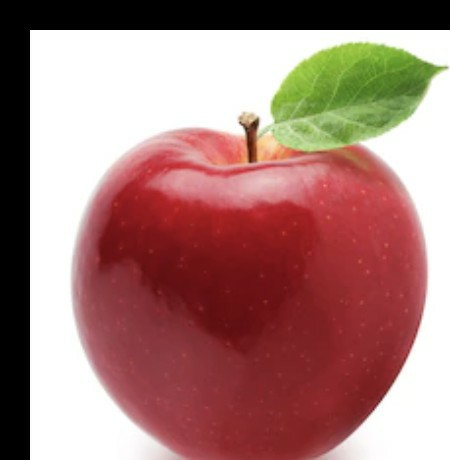fresh_apple: (69, 123, 423, 460)
